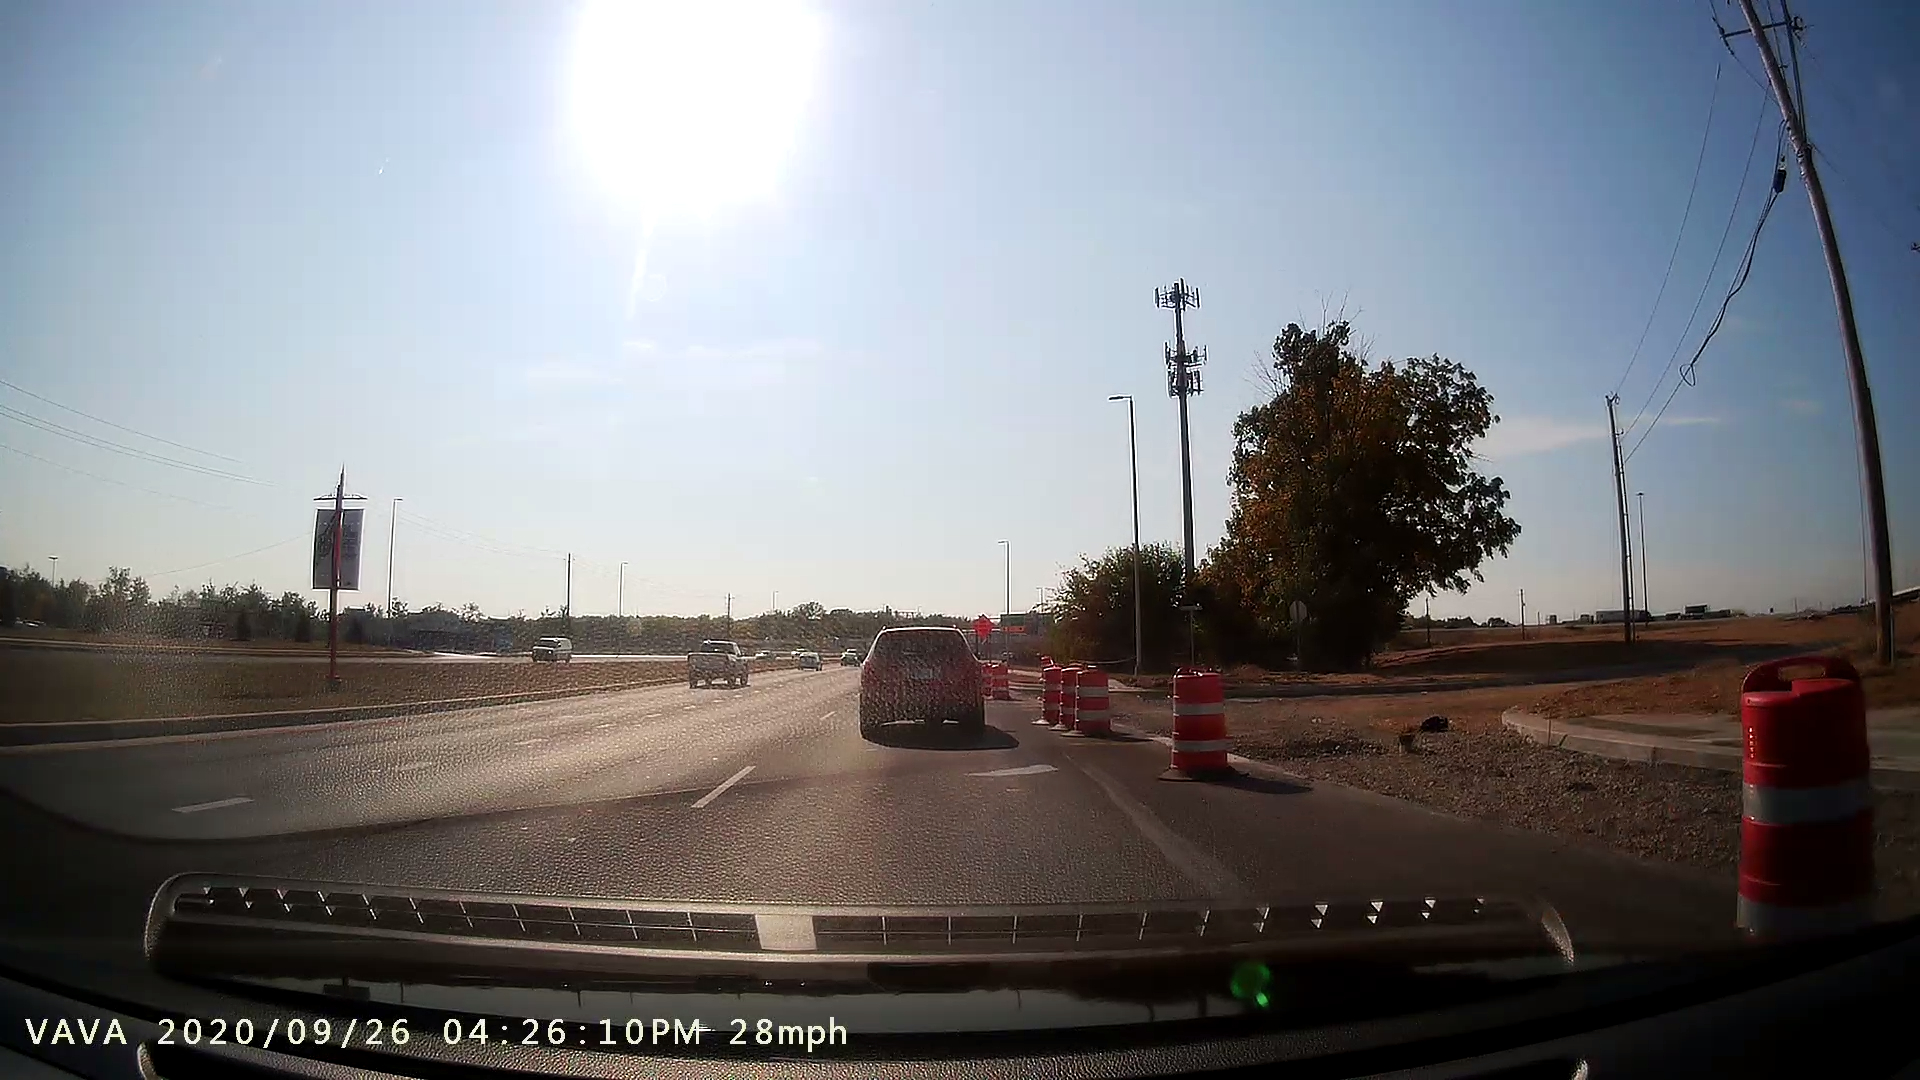const_barrel: (1153, 666, 1240, 787), (1064, 647, 1124, 742)
